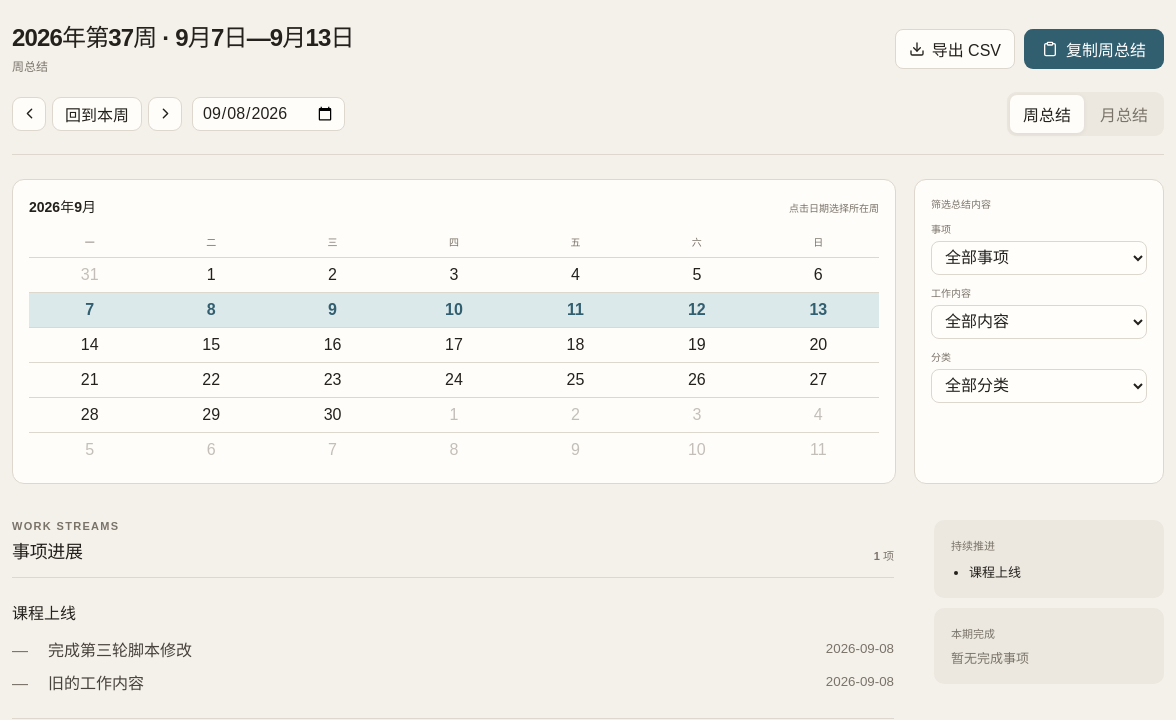
Test: work summaries › includes every record of the item under its current category in weekly and monthly summaries
Select "内容制作" in the dropdown named "总结筛选分类" at (1039, 386), box left=931, top=369, right=1147, bottom=403
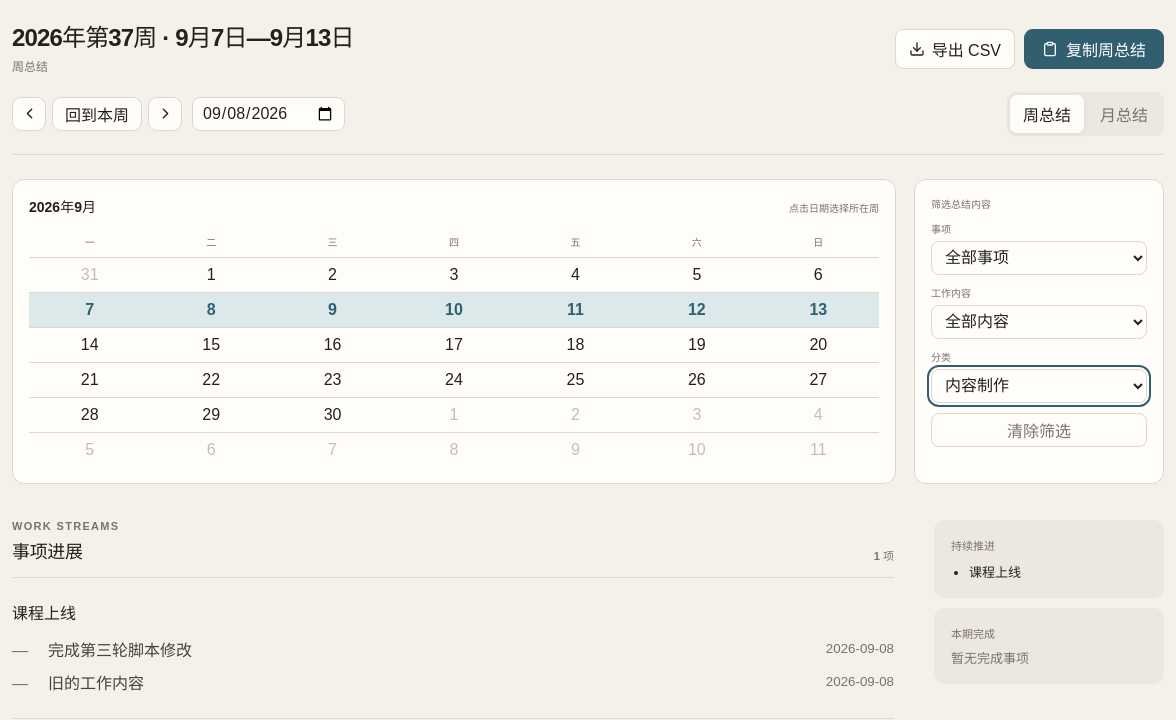
expect the text "旧的工作内容" is shown: met, box left=48, top=675, right=144, bottom=692
expect the element with class "summary-group" shows "完成第三轮脚本修改": met, box left=48, top=642, right=192, bottom=659
Click the button "月总结".
click(1124, 114)  # box left=1087, top=95, right=1161, bottom=133
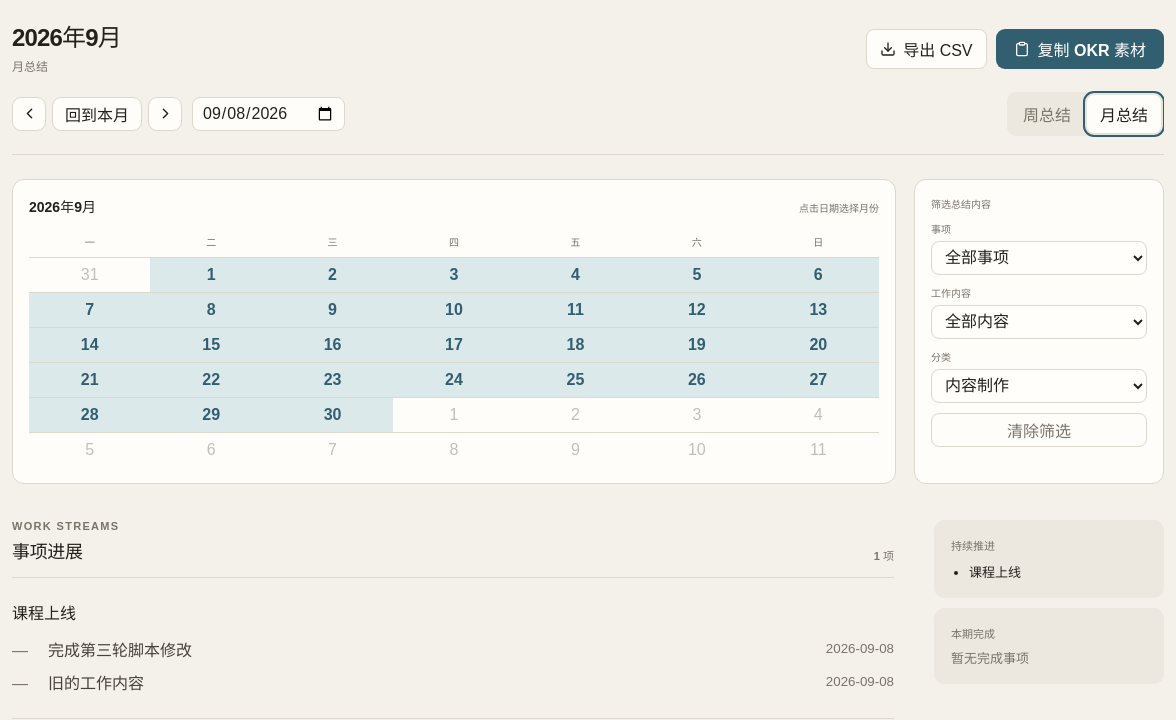
expect the text "旧的工作内容" is shown: met, box left=48, top=675, right=144, bottom=692
Select "未分类" in the dropdown named "总结筛选分类" at (1039, 386), box left=931, top=369, right=1147, bottom=403
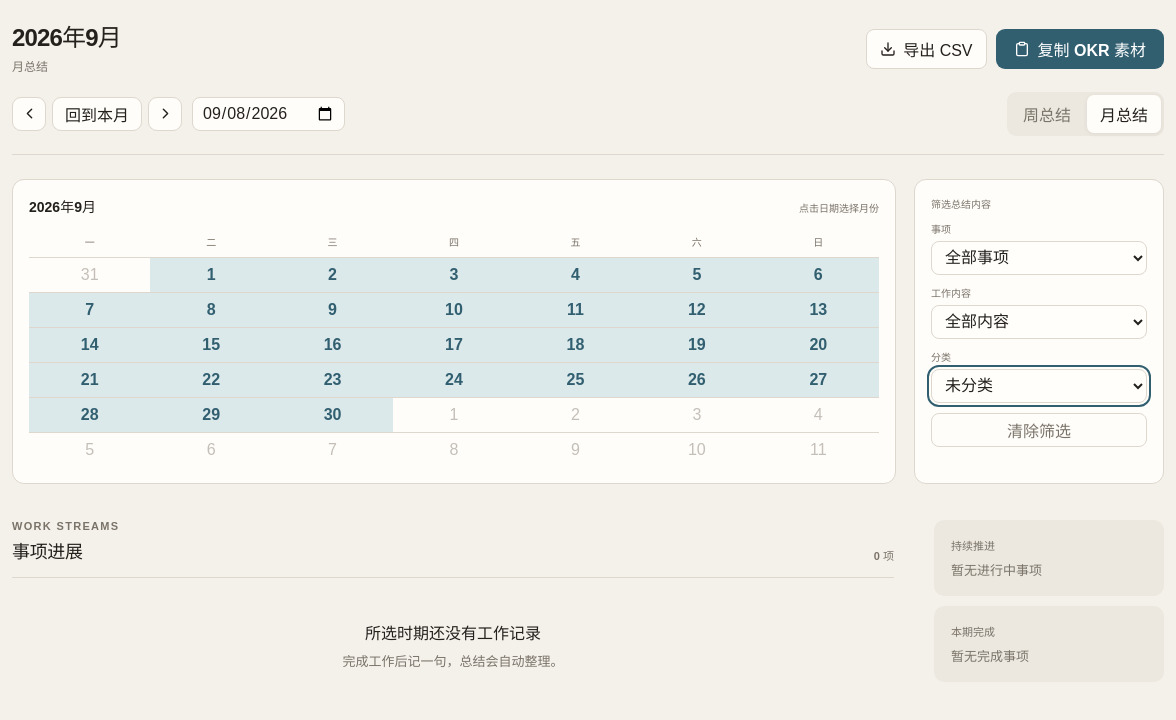
expect the text "旧的工作内容" is gone: met
